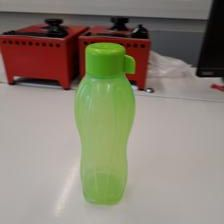bottle: (72, 40, 139, 207)
